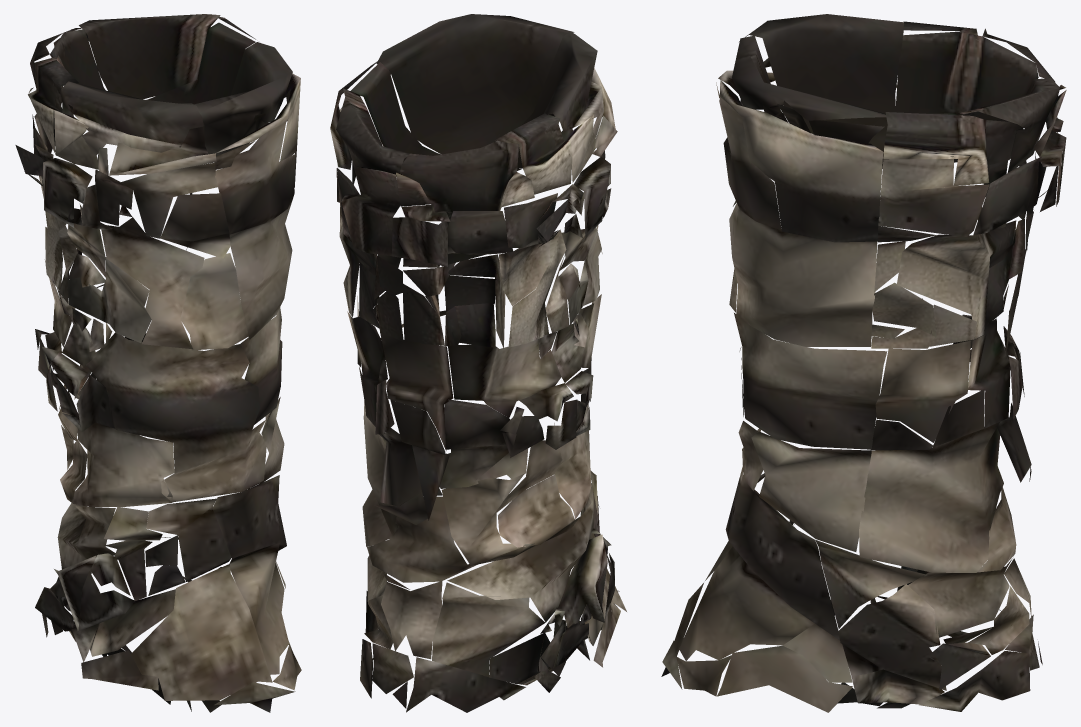
Rendered from a_ward_boots_shaft.glb.
The picture shows the model from 3 angles, left to right: view 1: azimuth 30°, elevation 25°; view 2: azimuth 150°, elevation 25°; view 3: azimuth 270°, elevation 25°; orthographic projection. The views are drawn at different scales.
Parts seen in each view (by area): view 1: tripo_node_66716165-d177-4658-8bea-9631f10389fa; view 2: tripo_node_66716165-d177-4658-8bea-9631f10389fa; view 3: tripo_node_66716165-d177-4658-8bea-9631f10389fa.
Part boxes in pixels (x1,y1,x2,y2): tripo_node_66716165-d177-4658-8bea-9631f10389fa: [15, 14, 301, 712]; tripo_node_66716165-d177-4658-8bea-9631f10389fa: [330, 14, 626, 712]; tripo_node_66716165-d177-4658-8bea-9631f10389fa: [661, 14, 1066, 712].
Bounding box in the file's own units: 0.1552 × 0.3697 × 0.2173.
1 material, 1 textured.
